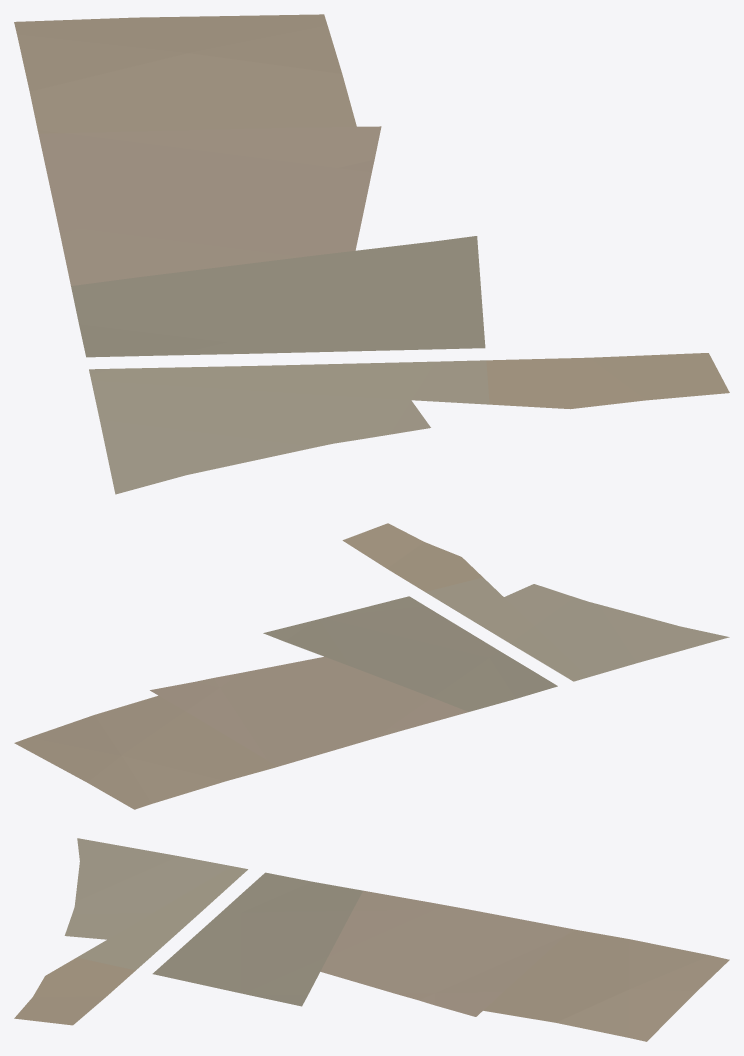
File: farm_7_2_soil.glb
The picture shows the model from 3 angles, top to bottom: view 1: azimuth 30°, elevation 25°; view 2: azimuth 150°, elevation 25°; view 3: azimuth 270°, elevation 25°; orthographic projection. The views are drawn at different scales.
Parts seen in each view (by area): view 1: geometry_0; view 2: geometry_0; view 3: geometry_0.
Part boxes in pixels (<box>): geometry_0: <box>14,14,729,494</box>; geometry_0: <box>14,523,729,809</box>; geometry_0: <box>14,838,729,1041</box>.
Bounding box in the file's own units: 200 × 3.52 × 295.
